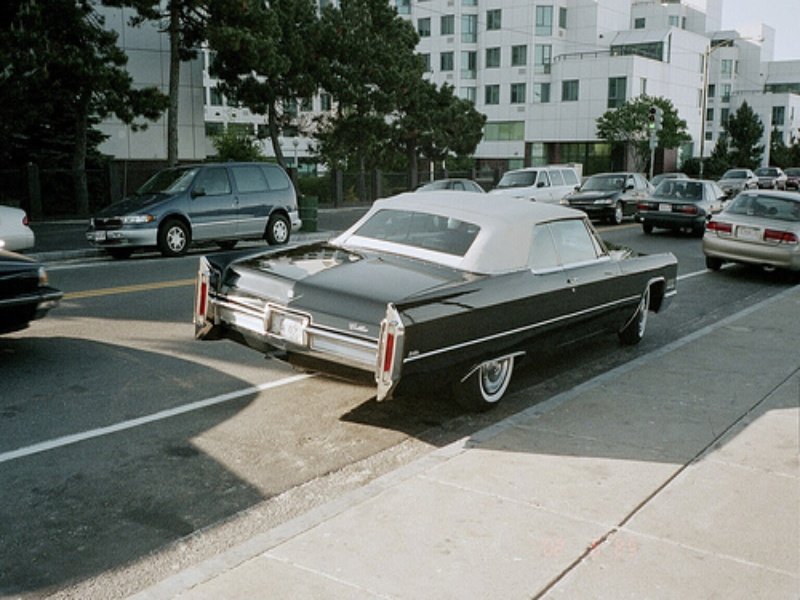car: (193, 189, 678, 411), (84, 163, 302, 258), (702, 188, 800, 270), (1, 248, 64, 337), (638, 178, 726, 233), (559, 172, 652, 222), (490, 166, 579, 203), (1, 204, 35, 251), (416, 178, 485, 194), (717, 168, 757, 194), (755, 166, 786, 189)
